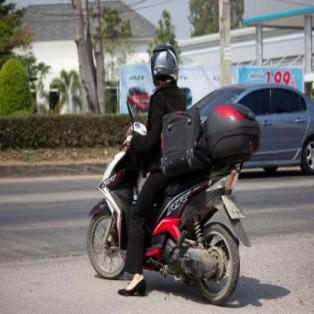Motocicleta: (78, 115, 242, 298)
